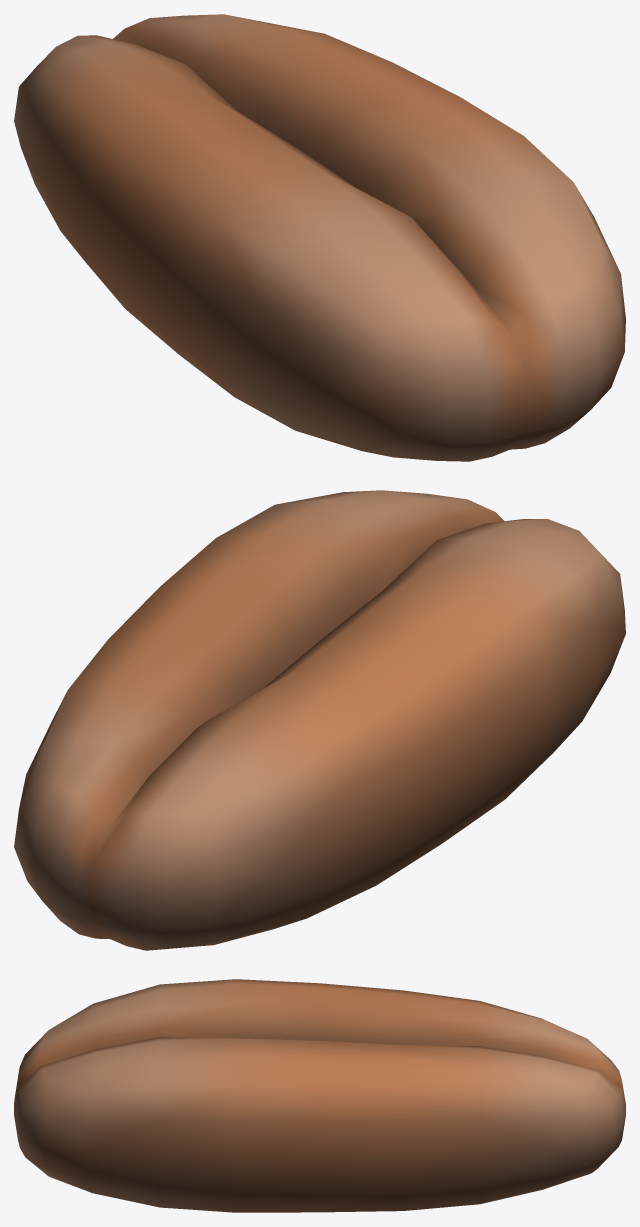
The model's file is trees-seeds-nuts-wheat-grain_v2.glb.
The picture shows the model from 3 angles, top to bottom: view 1: azimuth 30°, elevation 25°; view 2: azimuth 150°, elevation 25°; view 3: azimuth 270°, elevation 25°; orthographic projection. The views are drawn at different scales.
Parts seen in each view (by area): view 1: Wheat Grain_v2; view 2: Wheat Grain_v2; view 3: Wheat Grain_v2.
Part boxes in pixels (x1,y1,x2,y2): Wheat Grain_v2: (14, 14, 625, 461); Wheat Grain_v2: (14, 490, 625, 950); Wheat Grain_v2: (14, 979, 625, 1212).
Bounding box in the file's own units: 0.3387 × 0.2104 × 0.7.
